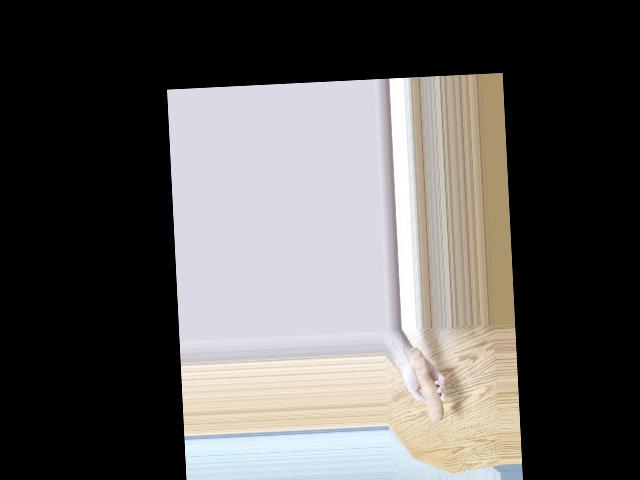sweet_potato: (413, 350, 445, 419)
